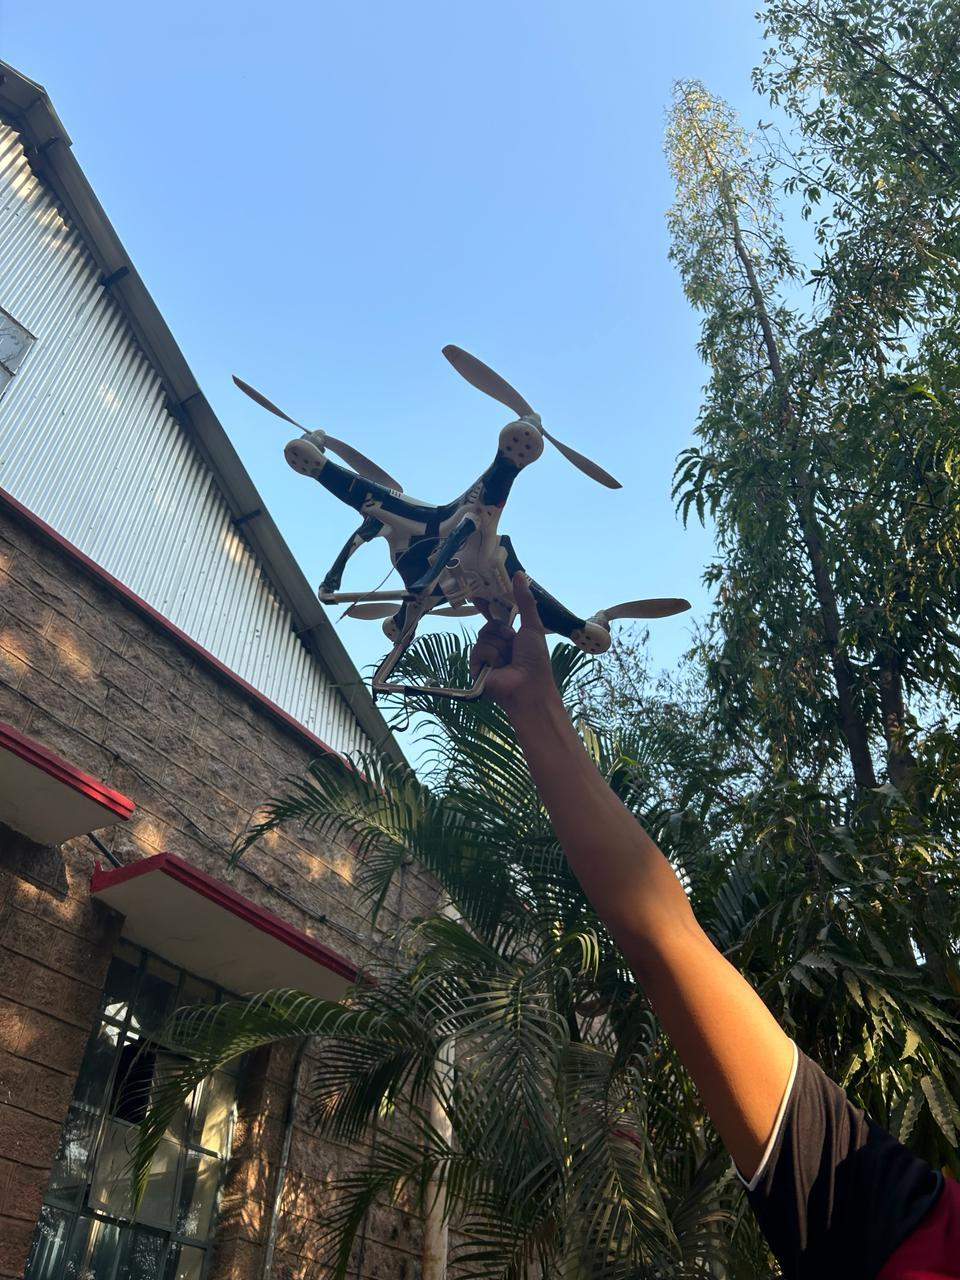drone: (217, 340, 701, 722)
